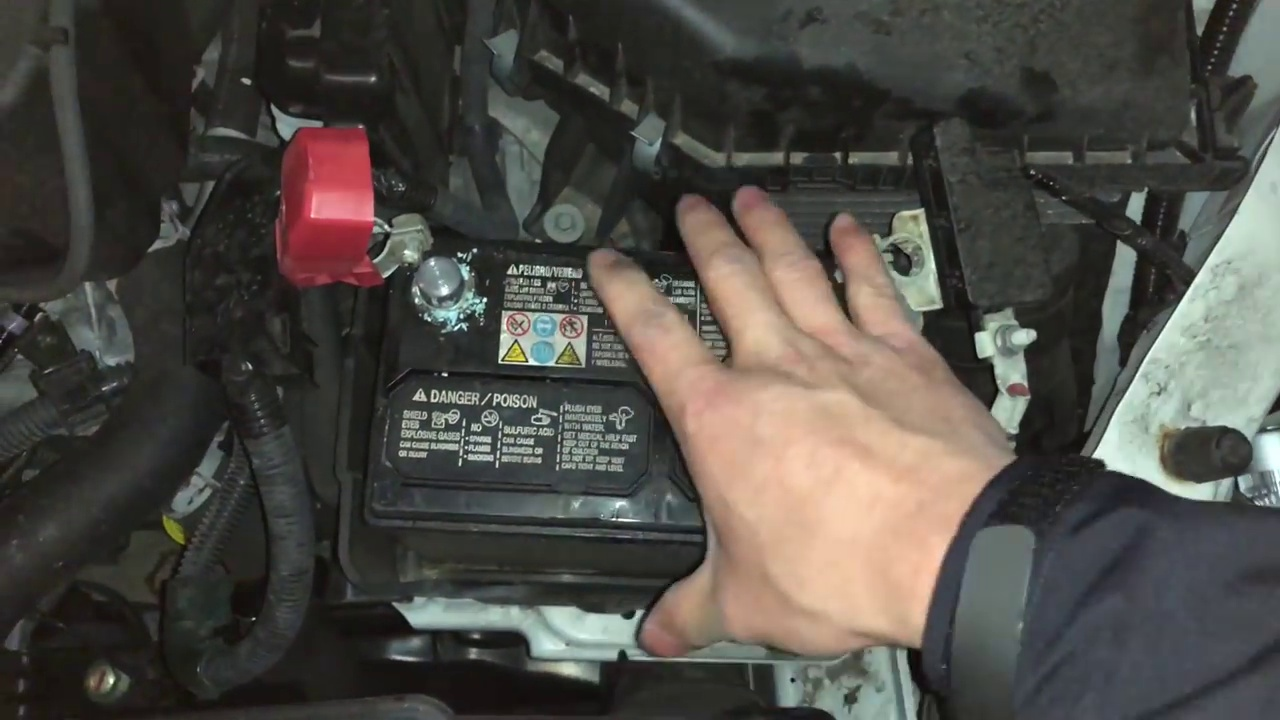battery: (359, 224, 903, 569)
pos_disconnected: (295, 166, 502, 325)
